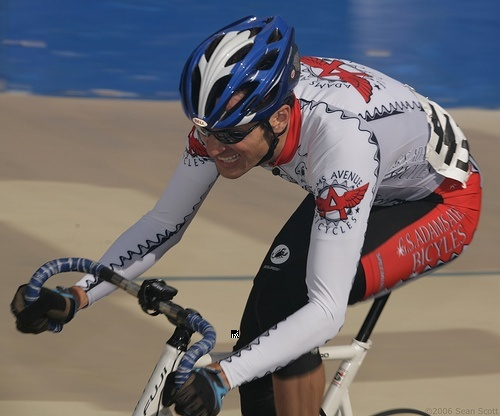car: (13, 244, 450, 416)
person: (28, 12, 479, 406)
person/hand: (162, 364, 228, 412), (14, 285, 73, 338)
person/head: (178, 15, 302, 180)
